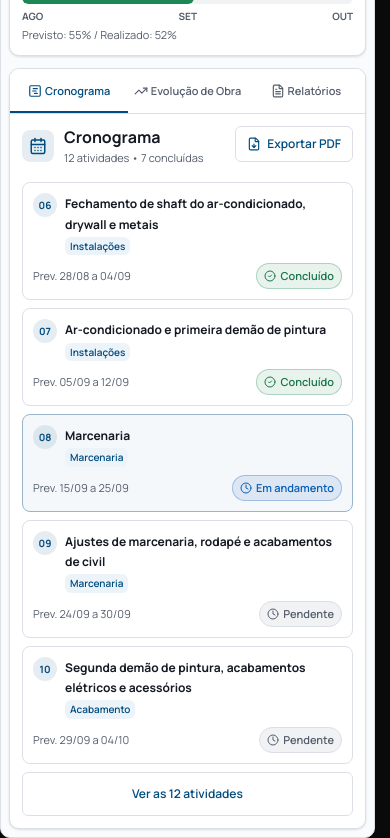
Test: WorkflowPortalReplica — cronograma no celular › abre com a atividade atual e as vizinhas; o botão alterna com as 12
Later steps or results of the test are not shown.
(page scrolled)
Expected: the text with class "wf-activity-number" reads "08", x1=39 y1=430 x2=51 y2=444
Step 1. Click the button "Ver as 12 atividades" → (188, 794), box x1=22 y1=772 x2=353 y2=816
(page scrolled)
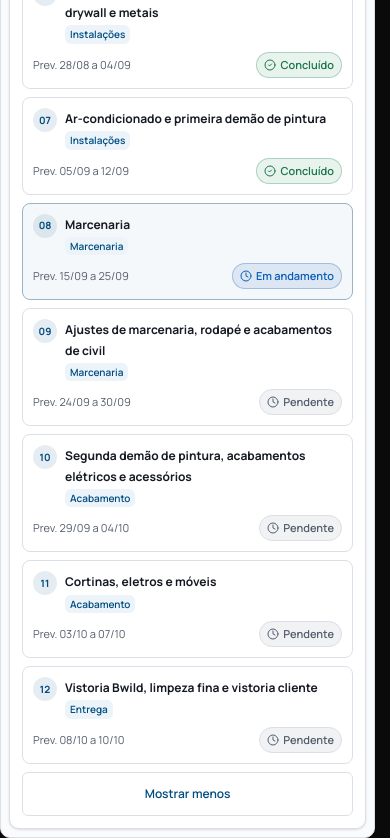
Expected: the button named "Ver as 12 atividades" is expanded, x1=22 y1=772 x2=353 y2=816
Expected: the button named "Ver as 12 atividades" reads "Mostrar menos", x1=22 y1=772 x2=353 y2=816
